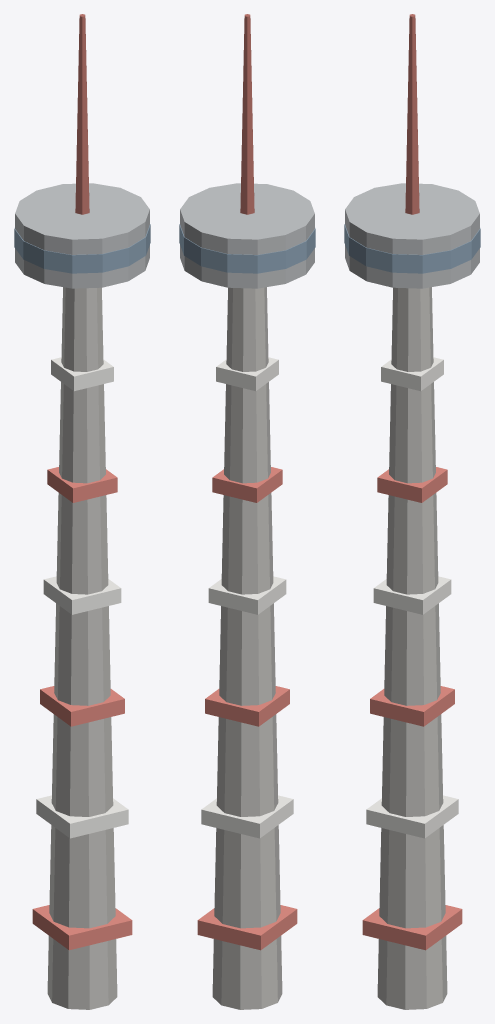
File: tv_tower.glb
The picture shows the model from 3 angles, left to right: view 1: azimuth 30°, elevation 25°; view 2: azimuth 150°, elevation 25°; view 3: azimuth 330°, elevation 25°; orthographic projection.
Visible parts, largest first — view 1: TvTower; view 2: TvTower; view 3: TvTower.
Part boxes in pixels (bbox=[...]): TvTower: bbox=[14, 14, 150, 1009]; TvTower: bbox=[179, 14, 315, 1009]; TvTower: bbox=[344, 14, 480, 1009].
Bounding box in the file's own units: 10.1 × 80 × 9.85.
